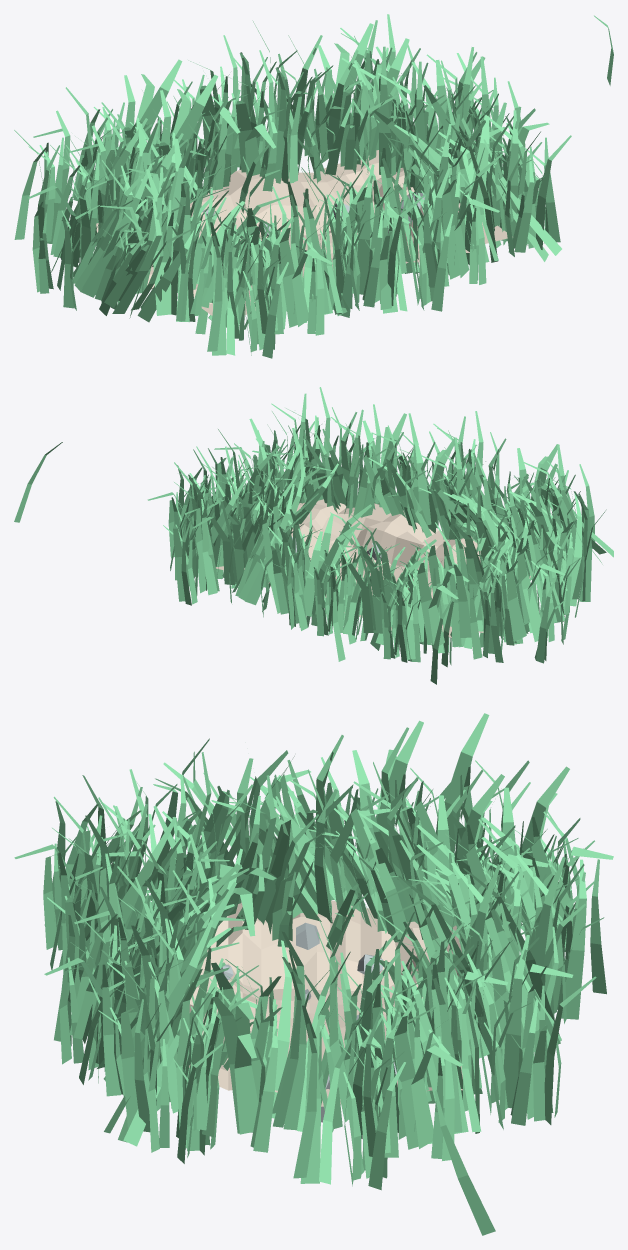
File: 041420landscapeModel_lighter.gltf
The picture shows the model from 3 angles, top to bottom: view 1: azimuth 30°, elevation 25°; view 2: azimuth 150°, elevation 25°; view 3: azimuth 270°, elevation 25°; orthographic projection. The views are drawn at different scales.
Visible parts, largest first — view 1: Plane, Plane.419, Plane.599, Plane.580, Plane.385, Plane.464, Plane.382, Plane.629, Plane.567, Plane.340, Plane.610, Plane.579 (+66 smaller); view 2: Plane, Plane.441, Plane.490, Plane.449, Plane.442, Plane.536, Plane.517, Plane.704, Plane.378, Plane.496, Plane.148, Plane.456 (+32 smaller); view 3: Plane, Plane.706, Plane.675, Plane.542, Plane.725, Plane.726, Plane.089, Plane.674, Plane.738, Plane.683, Plane.739, Plane.441 (+56 smaller).
Part boxes in pixels (x1,y1,x2,y2): Plane: (96,150,512,315); Plane.419: (80,163,152,297); Plane.599: (357,164,374,294); Plane.580: (279,227,297,327); Plane.385: (112,198,161,313); Plane.464: (379,46,392,174); Plane.382: (137,220,201,322); Plane.629: (442,179,459,279); Plane.567: (207,235,222,351); Plane.340: (169,74,217,171); Plane.610: (501,110,518,240); Plane.579: (292,249,332,326); Plane: (216,499,533,637); Plane.441: (506,561,526,641); Plane.490: (245,484,294,605); Plane.449: (453,564,471,637); Plane.442: (516,537,541,641); Plane.536: (303,531,322,616); Plane.517: (417,562,432,643); Plane.704: (202,500,217,595); Plane.378: (570,493,581,606); Plane.496: (192,517,234,585); Plane.148: (414,441,431,526); Plane.456: (329,563,373,632); Plane: (189,900,463,1106); Plane.706: (503,935,529,1108); Plane.675: (234,1033,258,1134); Plane.542: (561,859,586,1019); Plane.725: (394,1015,431,1149); Plane.726: (411,1045,463,1148); Plane.089: (434,1091,495,1235); Plane.674: (282,957,306,1130); Plane.738: (293,1023,317,1178); Plane.683: (253,1020,277,1152); Plane.739: (300,1005,321,1183); Plane.441: (444,713,489,853).
Bounding box in the file's own units: 123 × 33.25 × 77.46.
